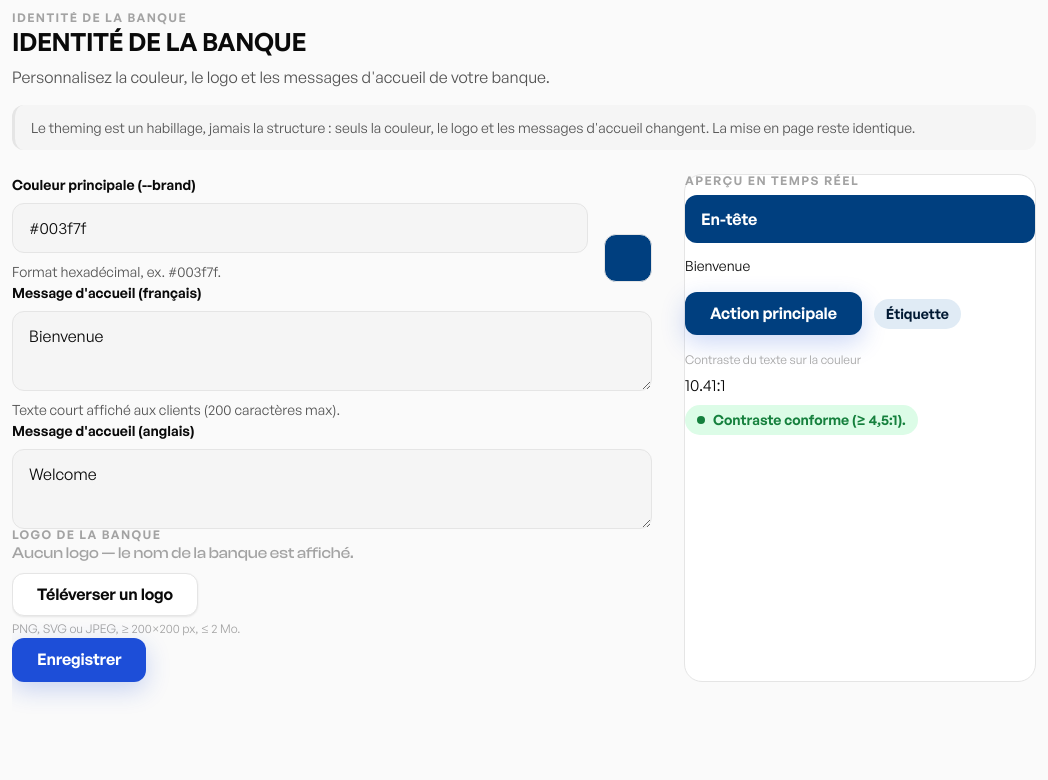
ThemingConsole — preview temps réel + contraste (miroir serveur) › ADM-001b: brand hors 4.5:1 → avertissement + valeur corrigée (identique au calcul serveur)
Replace the text in the field with test id "adm-brand-hex" with "#ffe000" at (300, 228), box left=12, top=203, right=588, bottom=253
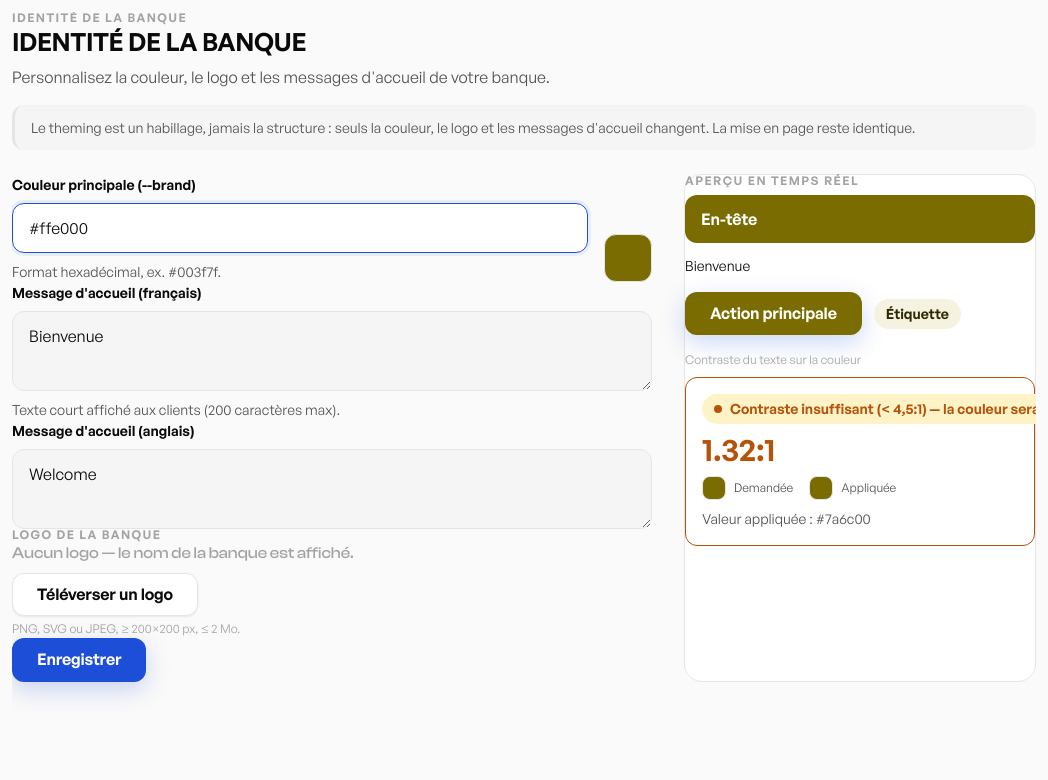
Result: the message with test id "preview-contrast-warning" is shown at left=685, top=377, right=1035, bottom=546
